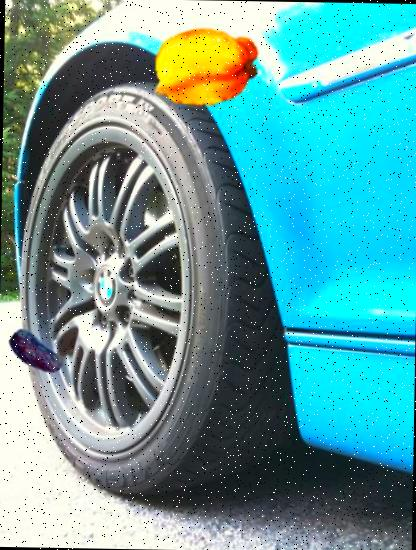Carambula: (146, 9, 262, 125)
Dates: (5, 324, 65, 384)
